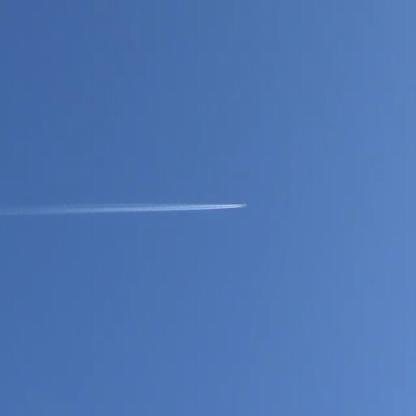CIV_Plane: (236, 198, 250, 212)
